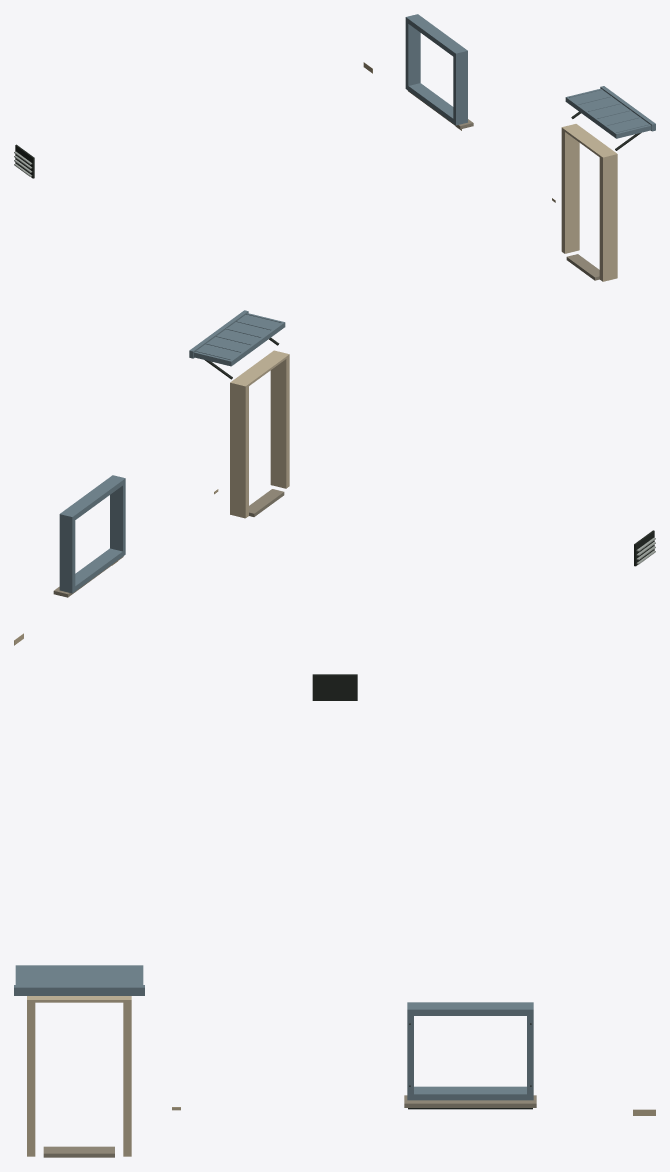
The model's file is SM_Homes_H04_Fixtures_LOD1.fbx.
3 renders of one model, top to bottom at view 1: azimuth 30°, elevation 25°; view 2: azimuth 150°, elevation 25°; view 3: azimuth 270°, elevation 25°, orthographic. The views are drawn at different scales.
Parts seen in each view (by area): view 1: SM_Homes_H04_Fixtures_LOD1; view 2: SM_Homes_H04_Fixtures_LOD1; view 3: SM_Homes_H04_Fixtures_LOD1.
Part boxes in pixels (<box>): SM_Homes_H04_Fixtures_LOD1: <box>14,14,655,281</box>; SM_Homes_H04_Fixtures_LOD1: <box>14,310,655,645</box>; SM_Homes_H04_Fixtures_LOD1: <box>14,674,655,1157</box>.
Size of the model in its own units: 9.81 by 8.54 by 2.88.
